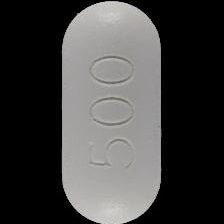53808-1073: (0, 0, 224, 224)
